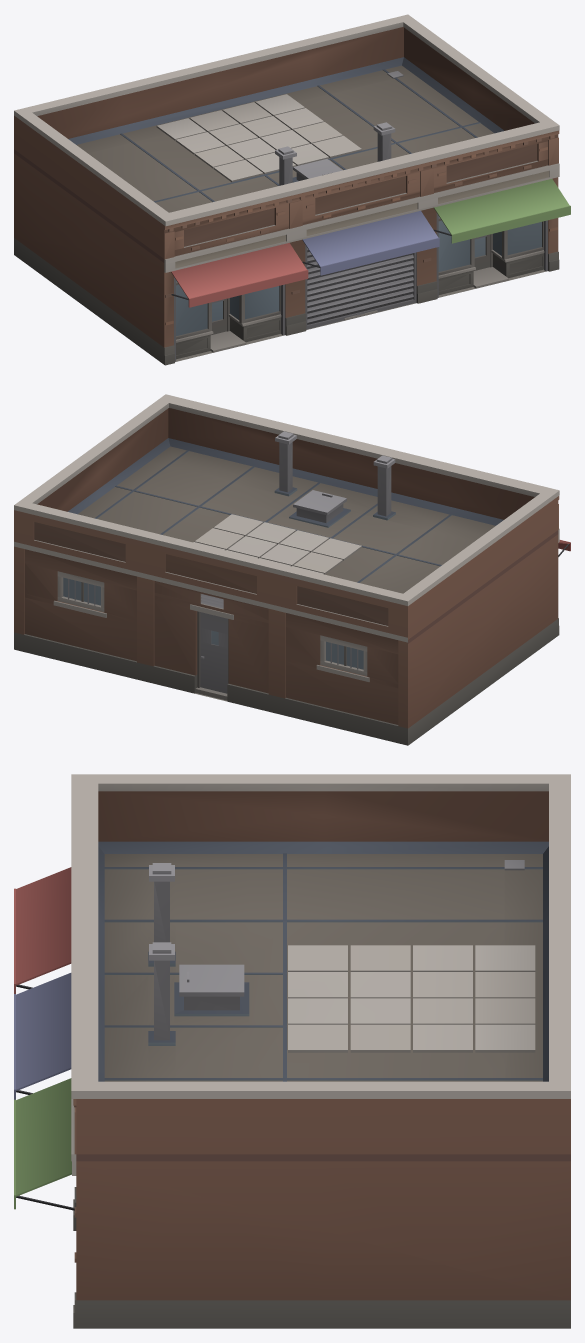
Rendered from shoprow.glb.
3 renders of one model, top to bottom at view 1: azimuth 30°, elevation 25°; view 2: azimuth 150°, elevation 25°; view 3: azimuth 270°, elevation 25°, orthographic. The views are drawn at different scales.
Visible parts, largest first — view 1: shoprow; view 2: shoprow; view 3: shoprow.
Part boxes in pixels (left/top/right/bottom): shoprow: left=14, top=14, right=570, bottom=365; shoprow: left=14, top=394, right=570, bottom=745; shoprow: left=14, top=774, right=570, bottom=1328.
Bounding box in the file's own units: 12 × 4.66 × 8.92.
